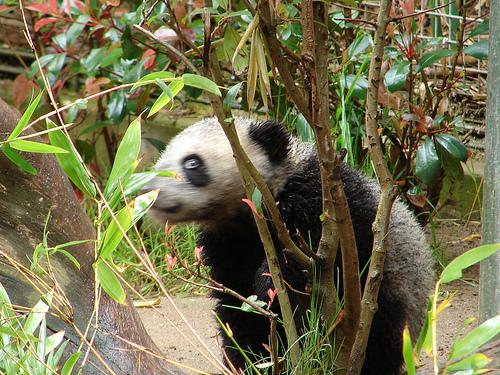panda: (141, 118, 273, 301), (360, 202, 433, 374), (234, 117, 321, 251), (337, 164, 378, 283), (268, 222, 311, 327), (211, 291, 268, 359)
